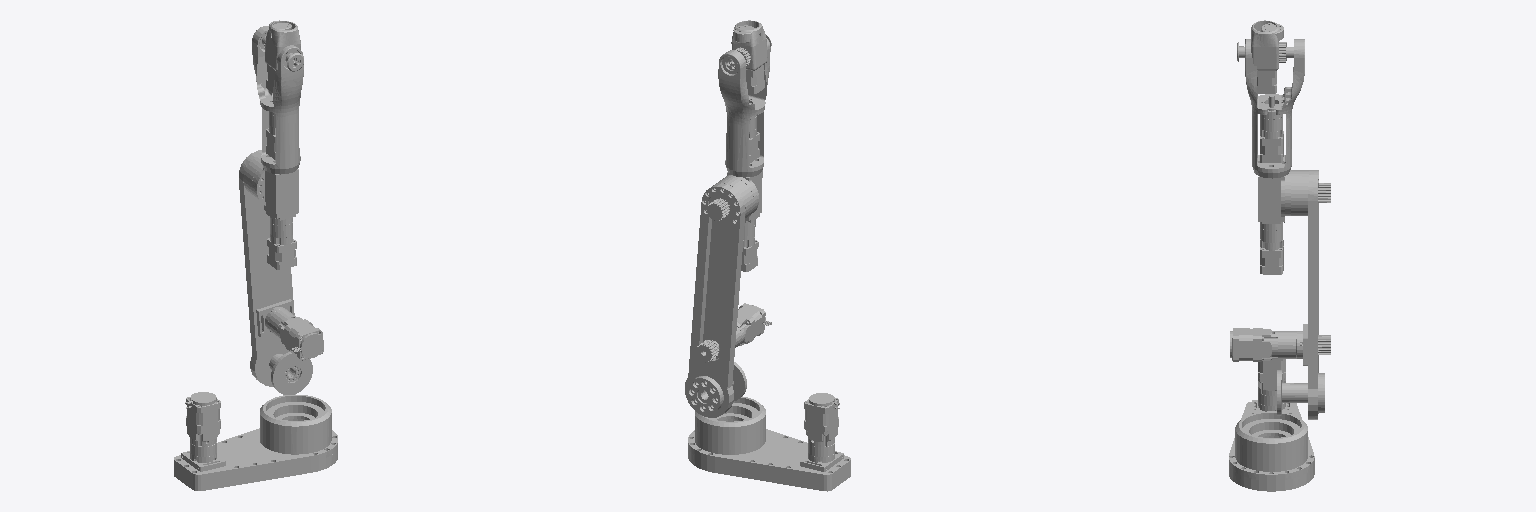
The robot description file, URDF, robot "robotic_arm":
<?xml version="1.0" encoding="utf-8"?>
<!-- This URDF was automatically created by SolidWorks to URDF Exporter! Originally created by [author] ([email redacted]) 
     Commit Version: 1.6.0-4-g7f85cfe  Build Version: 1.6.7995.38578
     For more information, please see http://wiki.ros.org/sw_urdf_exporter -->
<robot
  name="robotic_arm">
  <link name="base_link">
    <inertial>
      <origin
        xyz="0 0 0"
        rpy="0 0 0" />
      <mass value="0.83438" />
      <inertia
        ixx="0.00098057"
        ixy="2.6509E-06"
        ixz="-6.484E-08"
        iyy="0.0033643"
        iyz="3.8674E-10"
        izz="0.0027303" />
    </inertial>
    <visual>
      <origin
        xyz="0 0 0"
        rpy="0 0 0" />
      <geometry>
        <mesh filename="package://arm_control/description/meshes/base_link.STL" />
      </geometry>
      <material name="">
        <color rgba="0.75294 0.75294 0.75294 1" />
      </material>
    </visual>
    <collision>
      <origin
        xyz="0 0 0"
        rpy="0 0 0" />
      <geometry>
        <mesh filename="package://arm_control/description/meshes/base_link.STL" />
      </geometry>
    </collision>
  </link>

  <!-- Link 1 -->

  <link name="Link1">
    <inertial>
      <origin
        xyz="0 0 0"
        rpy="0 0 0" />
      <mass value="0.97007" />
      <inertia
        ixx="0.0010278"
        ixy="-3.2684E-07"
        ixz="-5.2705E-07"
        iyy="0.001187"
        iyz="2.9768E-06"
        izz="0.00070562" />
    </inertial>
    <visual>
      <origin
        xyz="0 0 0"
        rpy="0 0 0" />
      <geometry>
        <mesh filename="package://arm_control/description/meshes/Link1.STL" />
      </geometry>
      <material
        name="">
        <color
          rgba="0.75294 0.75294 0.75294 1" />
      </material>
    </visual>
    <collision>
      <origin
        xyz="0 0 0"
        rpy="0 0 0" />
      <geometry>
        <mesh filename="package://arm_control/description/meshes/Link1.STL" />
      </geometry>
    </collision>
  </link>
  <joint
    name="J1"
    type="revolute">
    <origin
      xyz="0 0 0"
      rpy="1.5708 0 -0.011335" />
    <parent
      link="base_link" />
    <child
      link="Link1" />
    <axis
      xyz="0 1 0" />
    <limit
      lower="0"
      upper="6.2832"
      effort="10"
      velocity="10" />
  </joint>

  <!-- Link 2 -->

  <link name="Link2">
    <inertial>
      <origin
        xyz="-1.4642E-06 0.11773 -0.037367"
        rpy="0 0 0" />
      <mass value="0.57742" />
      <inertia
        ixx="0.0036047"
        ixy="6.4776E-08"
        ixz="1.2011E-07"
        iyy="0.00041214"
        iyz="-1.522E-05"
        izz="0.0036098" />
    </inertial>
    <visual>
      <origin
        xyz="0 0 0"
        rpy="0 0 0" />
      <geometry>
        <mesh filename="package://arm_control/description/meshes/Link2.STL" />
      </geometry>
      <material
        name="">
        <color
          rgba="0.75294 0.75294 0.75294 1" />
      </material>
    </visual>
    <collision>
      <origin
        xyz="0 0 0"
        rpy="0 0 0" />
      <geometry>
        <mesh filename="package://arm_control/description/meshes/Link2.STL" />
      </geometry>
    </collision>
  </link>
  <joint
    name="J2"
    type="revolute">
    <origin
      xyz="0 0.134 0"
      rpy="0 0 0.078489" />
    <parent
      link="Link1" />
    <child
      link="Link2" />
    <axis
      xyz="0 0 1" />
    <limit
      lower="-3.142"
      upper="3.142"
      effort="10"
      velocity="10" />
  </joint>

  <!-- Link 3 -->

  <link name="Link3">
    <inertial>
      <origin
        xyz="-0.032888 8.4567E-07 -0.012996"
        rpy="0 0 0" />
      <mass value="0.25166" />
      <inertia
        ixx="6.7207E-05"
        ixy="4.8391E-09"
        ixz="-2.1878E-08"
        iyy="0.00012529"
        iyz="7.0722E-15"
        izz="0.00013233" />
    </inertial>
    <visual>
      <origin
        xyz="0 0 0"
        rpy="0 0 0" />
      <geometry>
        <mesh filename="package://arm_control/description/meshes/Link3.STL" />
      </geometry>
      <material
        name="">
        <color
          rgba="0.75294 0.75294 0.75294 1" />
      </material>
    </visual>
    <collision>
      <origin
        xyz="0 0 0"
        rpy="0 0 0" />
      <geometry>
        <mesh filename="package://arm_control/description/meshes/Link3.STL" />
      </geometry>
    </collision>
  </link>
  <joint
    name="J3"
    type="revolute">
    <origin
      xyz="0 0.322 0"
      rpy="0 0 1.5056" />
    <parent
      link="Link2" />
    <child
      link="Link3" />
    <axis
      xyz="0 0 1" />
    <limit
      lower="0"
      upper="6.2832"
      effort="10"
      velocity="10" />
  </joint>

  <!-- Link 4 -->

  <link name="Link4">
    <inertial>
      <origin
        xyz="0.095892 -0.00015734 0.0010751"
        rpy="0 0 0" />
      <mass value="0.30003" />
      <inertia
        ixx="0.00021298"
        ixy="-2.1556E-07"
        ixz="-1.6194E-05"
        iyy="0.0009111"
        iyz="-6.2039E-08"
        izz="0.00078057" />
    </inertial>
    <visual>
      <origin
        xyz="0 0 0"
        rpy="0 0 0" />
      <geometry>
        <mesh filename="package://arm_control/description/meshes/Link4.STL" />
      </geometry>
      <material
        name="">
        <color
          rgba="0.75294 0.75294 0.75294 1" />
      </material>
    </visual>
    <collision>
      <origin
        xyz="0 0 0"
        rpy="0 0 0" />
      <geometry>
        <mesh filename="package://arm_control/description/meshes/Link4.STL" />
      </geometry>
    </collision>
  </link>
  <joint
    name="J4"
    type="revolute">
    <origin
      xyz="0.030053 0 0"
      rpy="3.1373 0 0" />
    <parent
      link="Link3" />
    <child
      link="Link4" />
    <axis
      xyz="1 0 0" />
    <limit
      lower="0"
      upper="6.2832"
      effort="10"
      velocity="10" />
  </joint>

  <!-- Link 5 -->

  <link name="Link5">
    <inertial>
      <origin
        xyz="-0.0092831 1.2483E-05 0.0024384"
        rpy="0 0 0" />
      <mass value="0.15589" />
      <inertia
        ixx="4.2855E-05"
        ixy="-4.5958E-08"
        ixz="1.1096E-06"
        iyy="9.7651E-05"
        iyz="4.4358E-09"
        izz="9.2538E-05" />
    </inertial>
    <visual>
      <origin
        xyz="0 0 0"
        rpy="0 0 0" />
      <geometry>
        <mesh filename="package://arm_control/description/meshes/Link5.STL" />
      </geometry>
      <material
        name="">
        <color
          rgba="0.75294 0.75294 0.75294 1" />
      </material>
    </visual>
    <collision>
      <origin
        xyz="0 0 0"
        rpy="0 0 0" />
      <geometry>
        <mesh filename="package://arm_control/description/meshes/Link5.STL" />
      </geometry>
    </collision>
  </link>
  <joint
    name="J5"
    type="revolute">
    <origin
      xyz="0.2027 0 0"
      rpy="0 0 0.073007" />
    <parent
      link="Link4" />
    <child
      link="Link5" />
    <axis
      xyz="0 0 1" />
    <limit
      lower="-1.5708"
      upper="1.5708"
      effort="10"
      velocity="10" />
  </joint>

  <!-- Link 6 -->

  <link name="Link6">
    <inertial>
      <origin
        xyz="0.010919 0.00011377 -1.4128E-10"
        rpy="0 0 0" />
      <mass value="0.013526" />
      <inertia
        ixx="2.0222E-06"
        ixy="5.8748E-09"
        ixz="-9.3192E-15"
        iyy="1.3205E-06"
        iyz="-1.6416E-14"
        izz="1.3037E-06" />
    </inertial>
    <visual>
      <origin
        xyz="0 0 0"
        rpy="0 0 0" />
      <geometry>
        <mesh filename="package://arm_control/description/meshes/Link6.STL" />
      </geometry>
      <material
        name="">
        <color
          rgba="0.75294 0.75294 0.75294 1" />
      </material>
    </visual>
    <collision>
      <origin
        xyz="0 0 0"
        rpy="0 0 0" />
      <geometry>
        <mesh filename="package://arm_control/description/meshes/Link6.STL" />
      </geometry>
    </collision>
  </link>
  <joint
    name="J6"
    type="revolute">
    <origin
      xyz="0.025171 0 0.001"
      rpy="1.2609 0 0" />
    <parent
      link="Link5" />
    <child
      link="Link6" />
    <axis
      xyz="1 0 0" />
    <limit
      lower="0"
      upper="6.2832"
      effort="10"
      velocity="10" />
  </joint>
</robot>

--- Render facts (derived) ---
3 views of the same robot in one strip: view 1: azimuth 30°, elevation 25°; view 2: azimuth 150°, elevation 25°; view 3: azimuth 270°, elevation 25° (orthographic).
Model robotic_arm with 7 links and 6 joints (6 revolute), rooted at base_link, posed every joint at zero.
Visible links, largest first — view 1: base_link, Link2, Link4, Link3, Link5; view 2: Link2, base_link, Link4, Link3, Link5; view 3: base_link, Link2, Link4, Link3, Link5.
Boxes of the visible links, bbox=[...] form: base_link: bbox=[174, 392, 337, 490]; Link2: bbox=[239, 150, 323, 394]; Link4: bbox=[252, 26, 303, 174]; Link3: bbox=[252, 165, 298, 269]; Link5: bbox=[260, 21, 303, 92]; Link2: bbox=[685, 177, 771, 417]; base_link: bbox=[688, 393, 850, 491]; Link4: bbox=[718, 38, 770, 176]; Link3: bbox=[706, 170, 762, 271]; Link5: bbox=[727, 20, 771, 93]; base_link: bbox=[1229, 359, 1314, 491]; Link2: bbox=[1230, 170, 1330, 419]; Link4: bbox=[1245, 39, 1304, 178]; Link3: bbox=[1258, 170, 1330, 274]; Link5: bbox=[1237, 20, 1293, 93].
Bounding box of the posed robot: 0.2617 × 0.1549 × 0.733 m (x, y, z).
6 mesh visuals loaded from 7 distinct referenced files (6 binary STL); not drawn: 1 (reference not matched to a file when rendering).